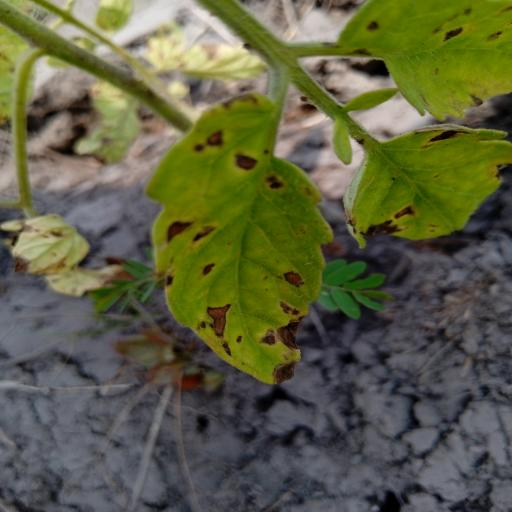Tomato_Brown_Spots: (143, 88, 337, 386), (329, 0, 512, 122), (352, 120, 512, 249)
